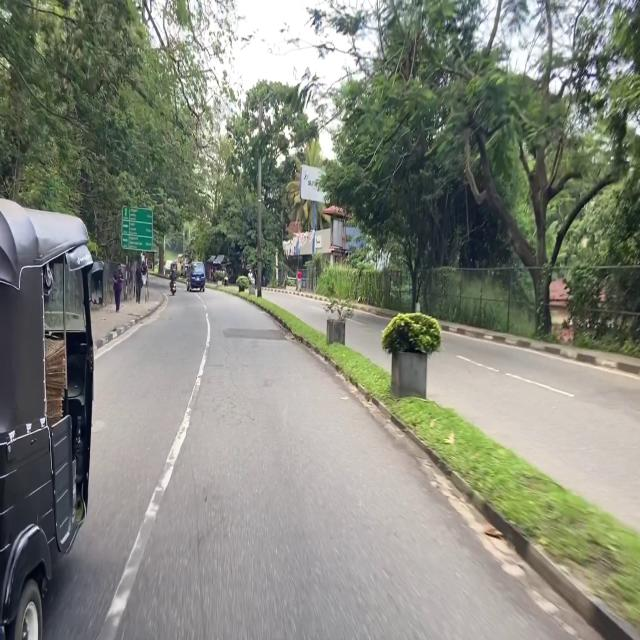bus: (177, 251, 191, 276)
motorcycle: (170, 280, 176, 295)
person: (113, 264, 123, 312), (135, 263, 142, 303), (297, 270, 302, 292), (170, 270, 177, 281)
three wheeler: (0, 199, 104, 639)
van: (187, 262, 205, 292)
